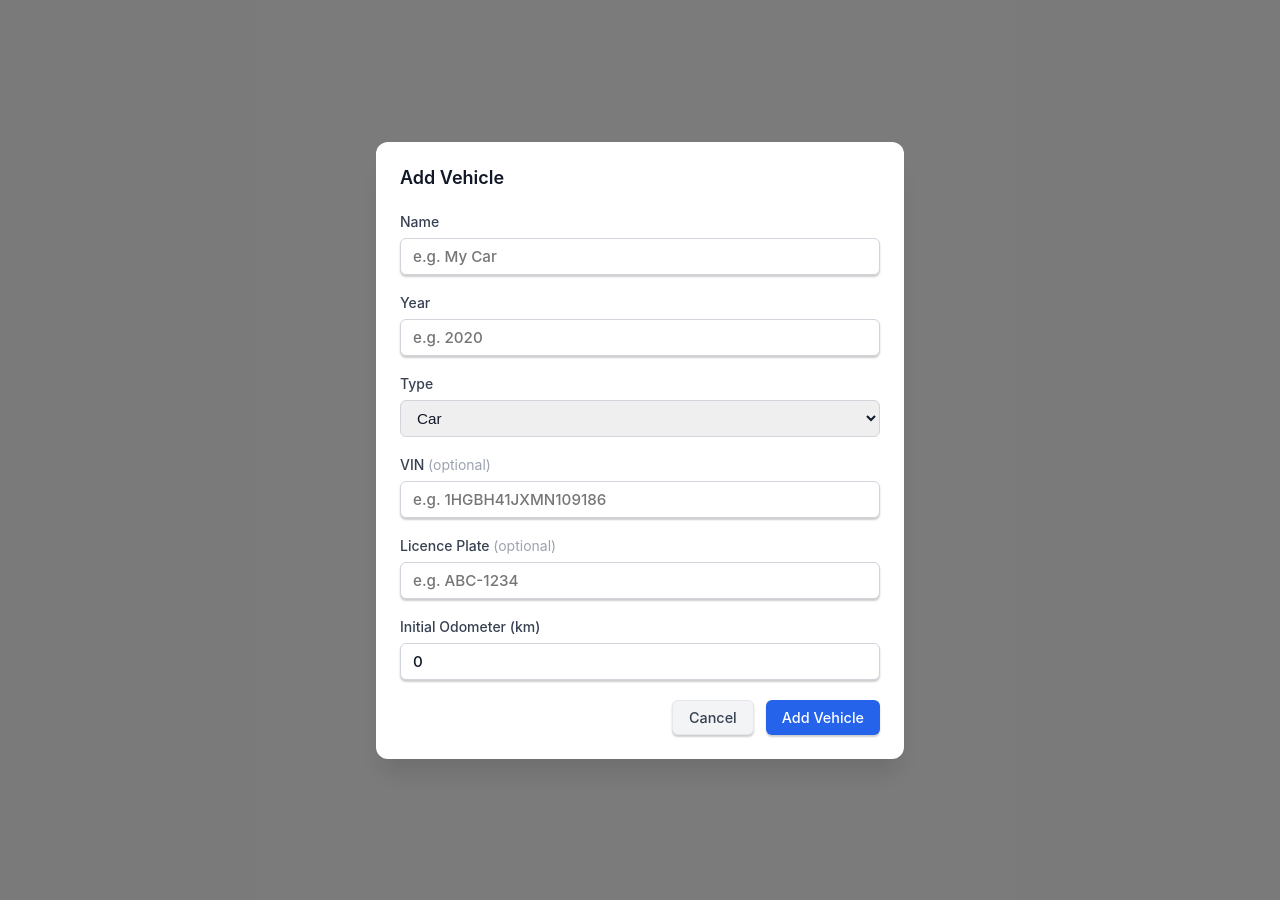
AddEditVehicle – add mode › shows odometer error when odometer exceeds maximum
In the field with test id "input-name": (640, 256) [400,238,880,274], type "Car"
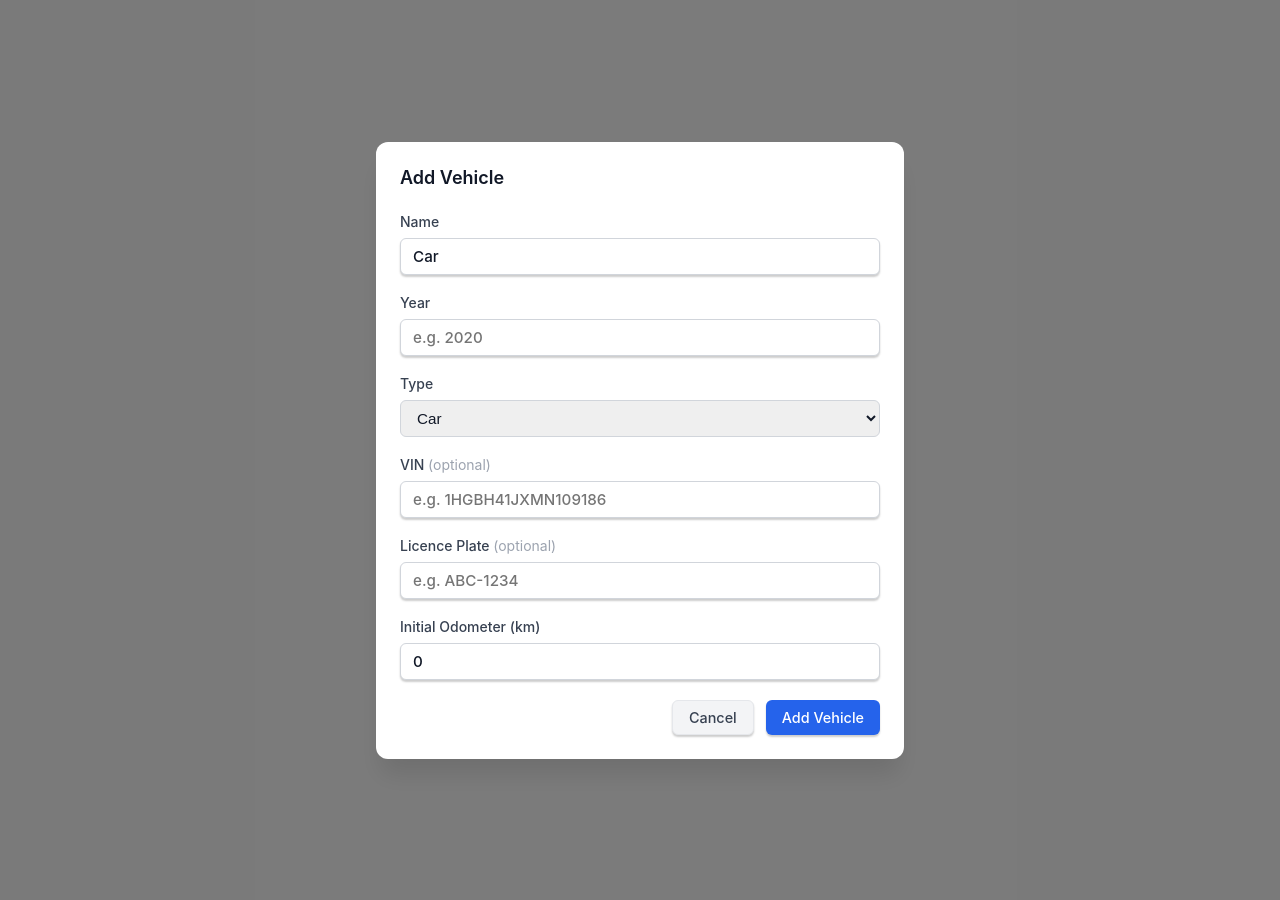
In the field with test id "input-year": (640, 337) [400,318,880,356], type "2020"
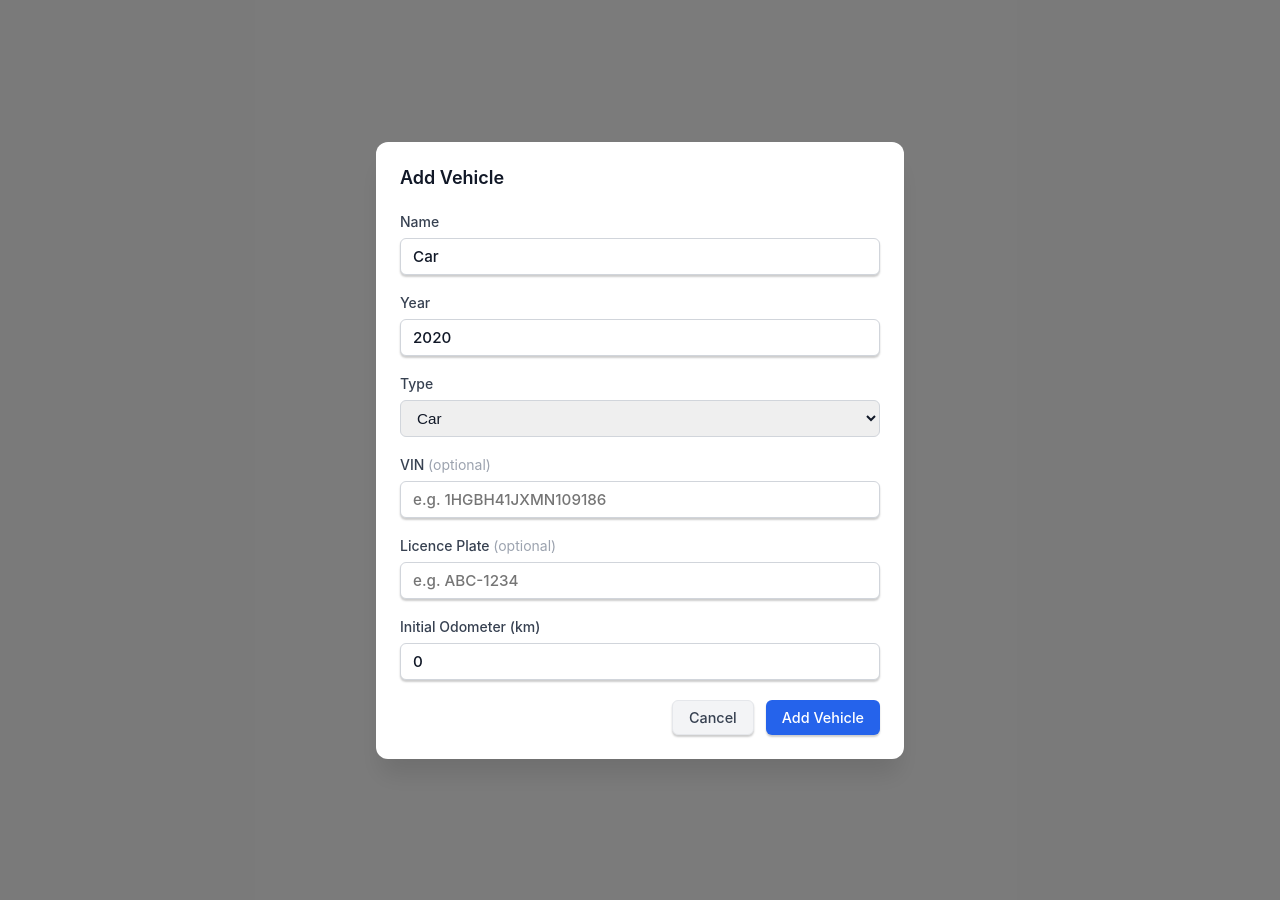
Replace the text in the number field with test id "input-odometer" with "99999999": (640, 661) [400,642,880,680]
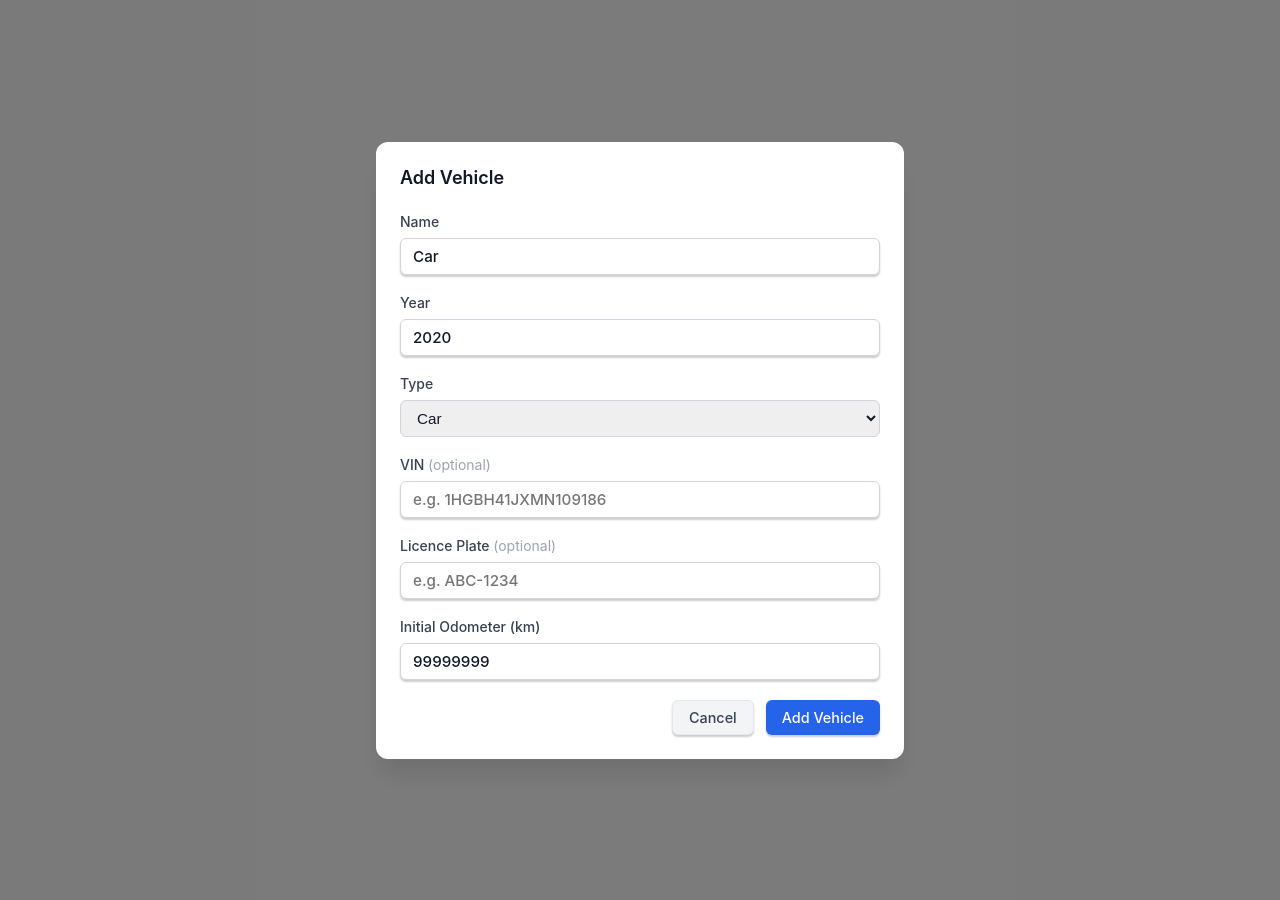
Click the button with test id "btn-submit": (823, 717) [766,700,880,734]
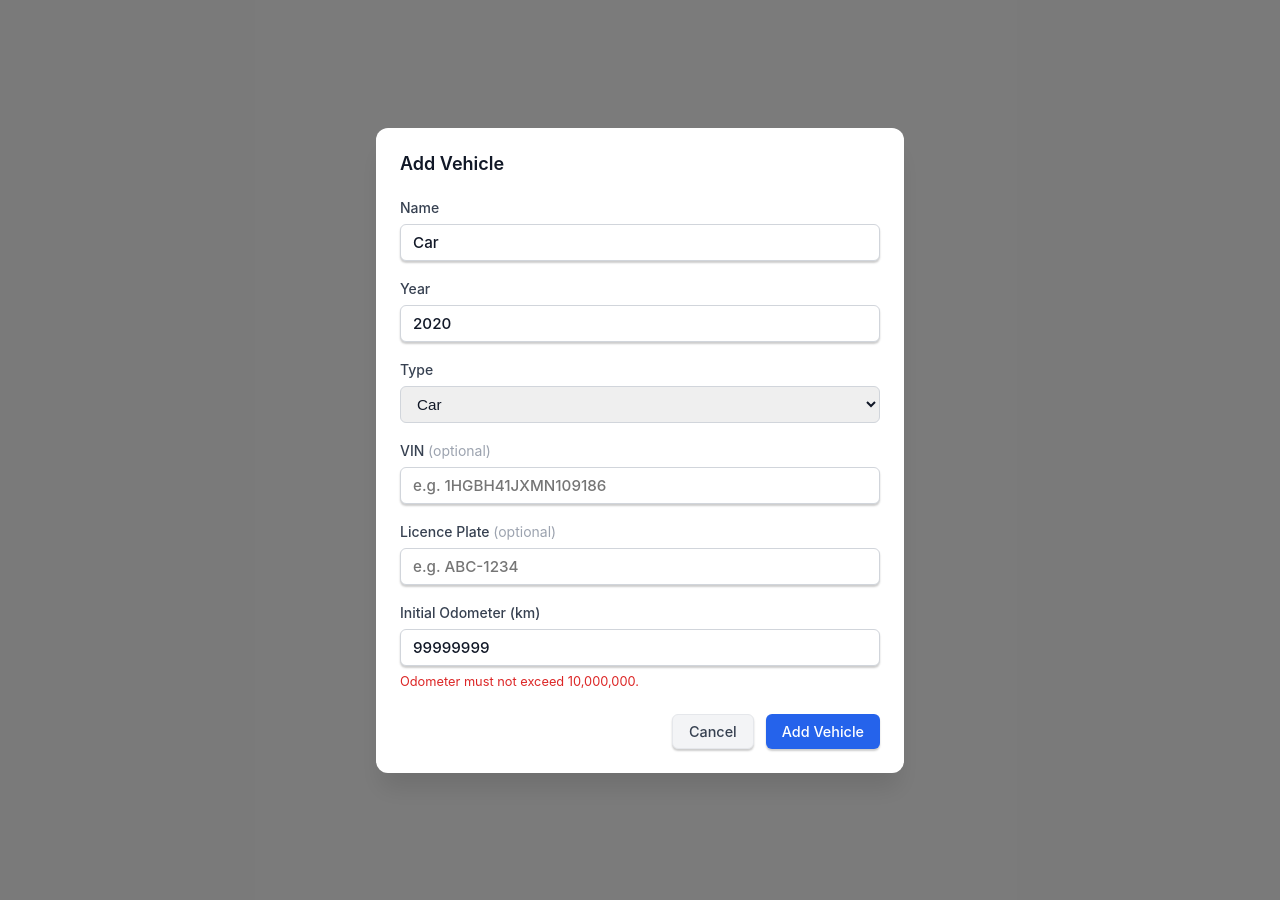
Expected: the text "Odometer must not exceed 10,000,000." is shown, [400,674,639,688]
